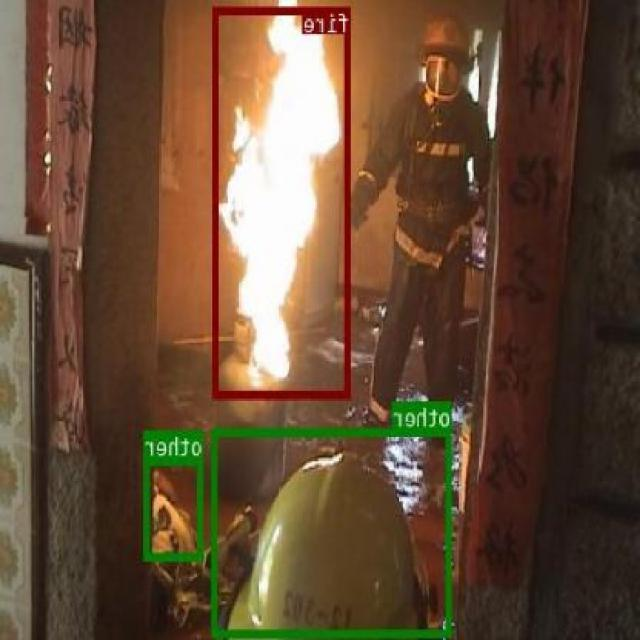Fire: (214, 5, 352, 398)
